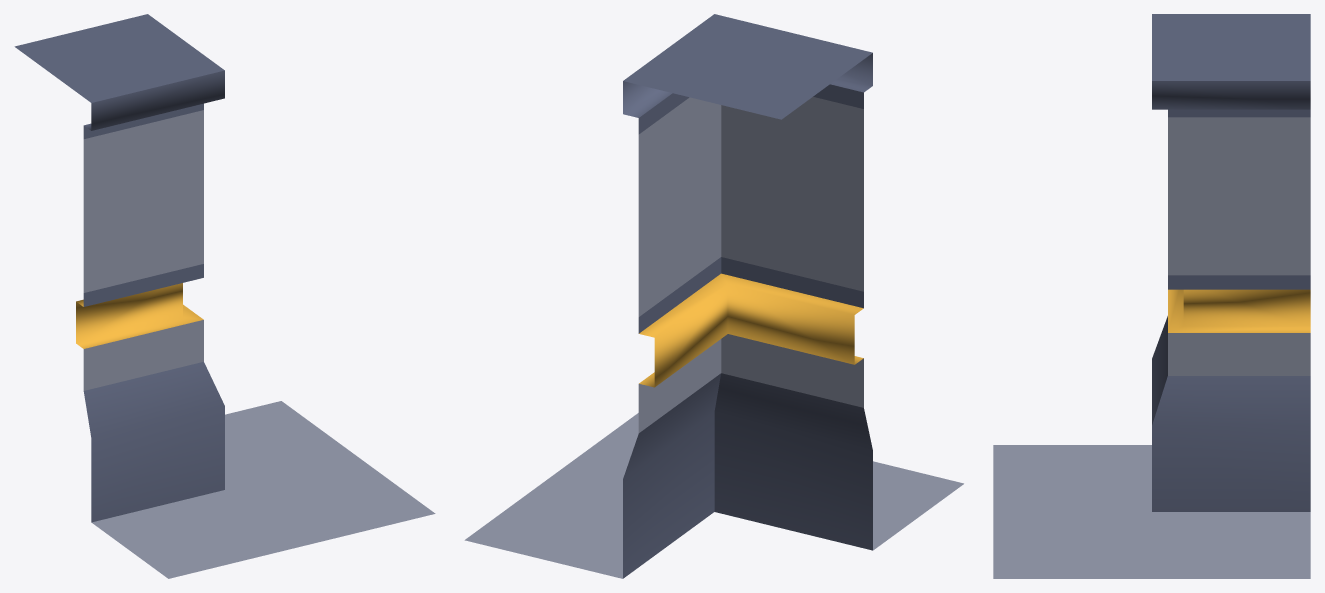
File: StructureCornerOuter-transformed.glb
3 views of the same model, side by side, from view 1: azimuth 30°, elevation 25°; view 2: azimuth 150°, elevation 25°; view 3: azimuth 270°, elevation 25° (orthographic). The views are drawn at different scales.
Parts seen in each view (by area): view 1: structure-corner-outer; view 2: structure-corner-outer; view 3: structure-corner-outer.
Boxes of the visible parts, left/top/right/bottom form: structure-corner-outer: left=14, top=14, right=435, bottom=578; structure-corner-outer: left=464, top=14, right=963, bottom=578; structure-corner-outer: left=993, top=14, right=1310, bottom=578.
Size of the model in its own units: 2 by 3 by 2.
